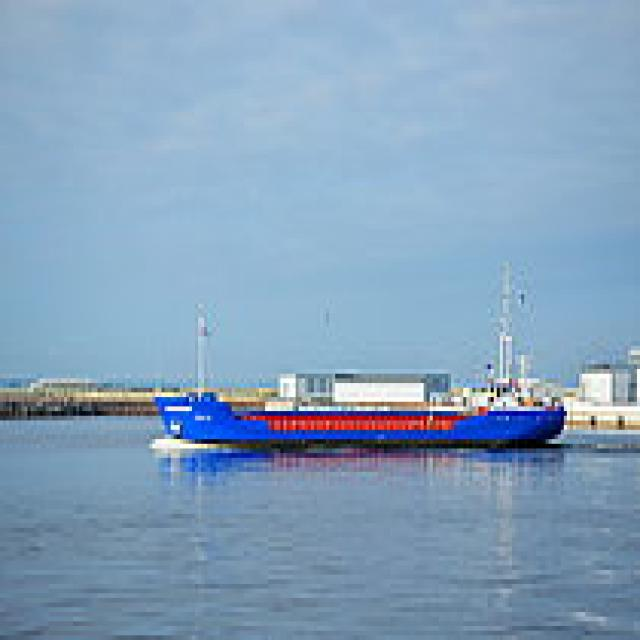Cargo: (149, 252, 567, 448)
